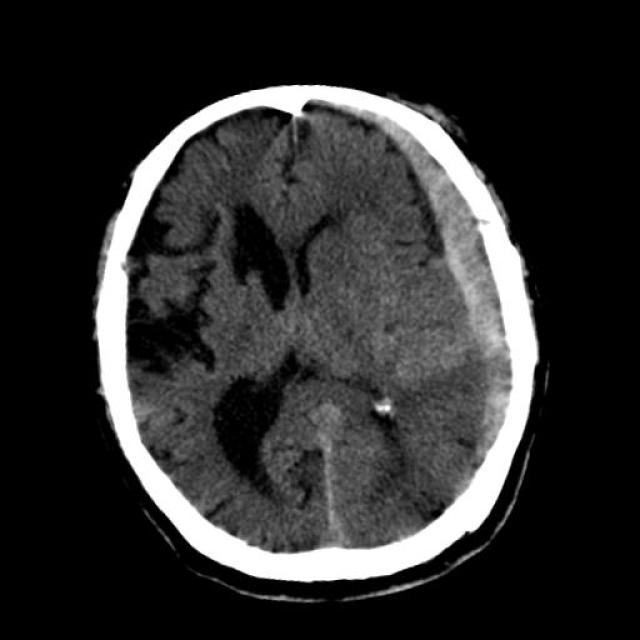Subdural: (325, 68, 581, 512)
